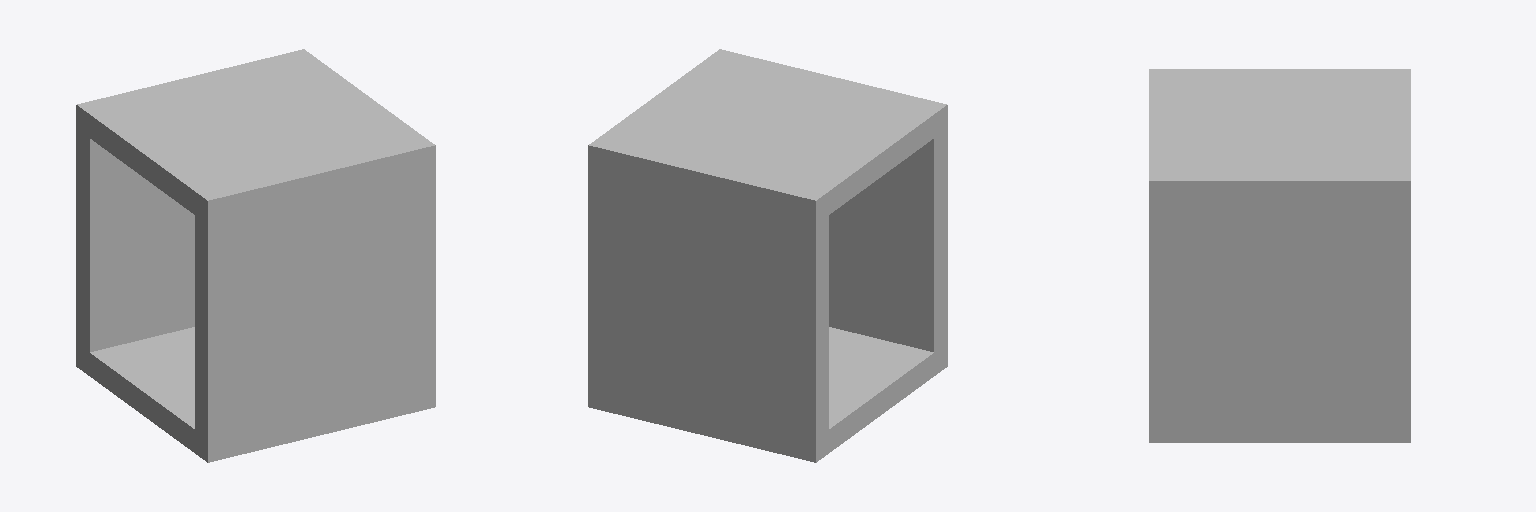
The model's file is wallSet_7.obj.
The picture shows the model from 3 angles: view 1: azimuth 30°, elevation 25°; view 2: azimuth 150°, elevation 25°; view 3: azimuth 270°, elevation 25°; orthographic projection.
Parts seen in each view (by area): view 1: wallSet_7_Cube.027; view 2: wallSet_7_Cube.027; view 3: wallSet_7_Cube.027.
Boxes of the visible parts, x1,y1,x2,y2 form: wallSet_7_Cube.027: [76, 49, 435, 462]; wallSet_7_Cube.027: [588, 49, 947, 462]; wallSet_7_Cube.027: [1149, 69, 1410, 442].
Bounding box in the file's own units: 2 × 2.2 × 2.